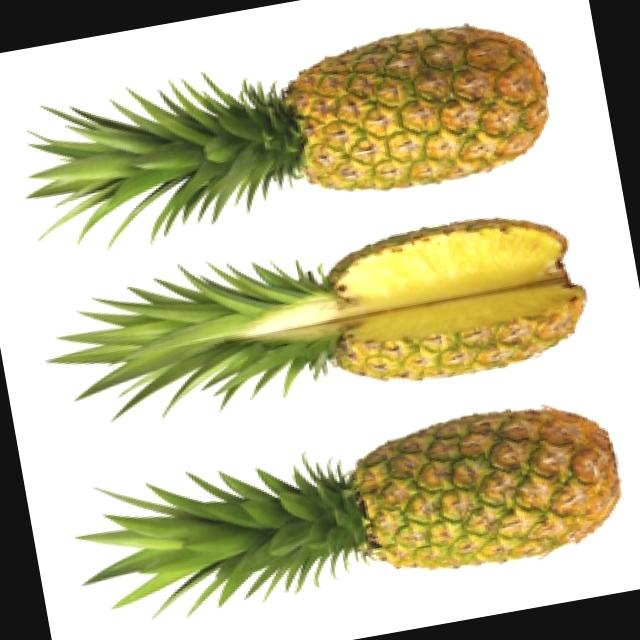pineapple: (293, 374, 640, 611), (257, 186, 594, 411), (226, 10, 565, 228)
